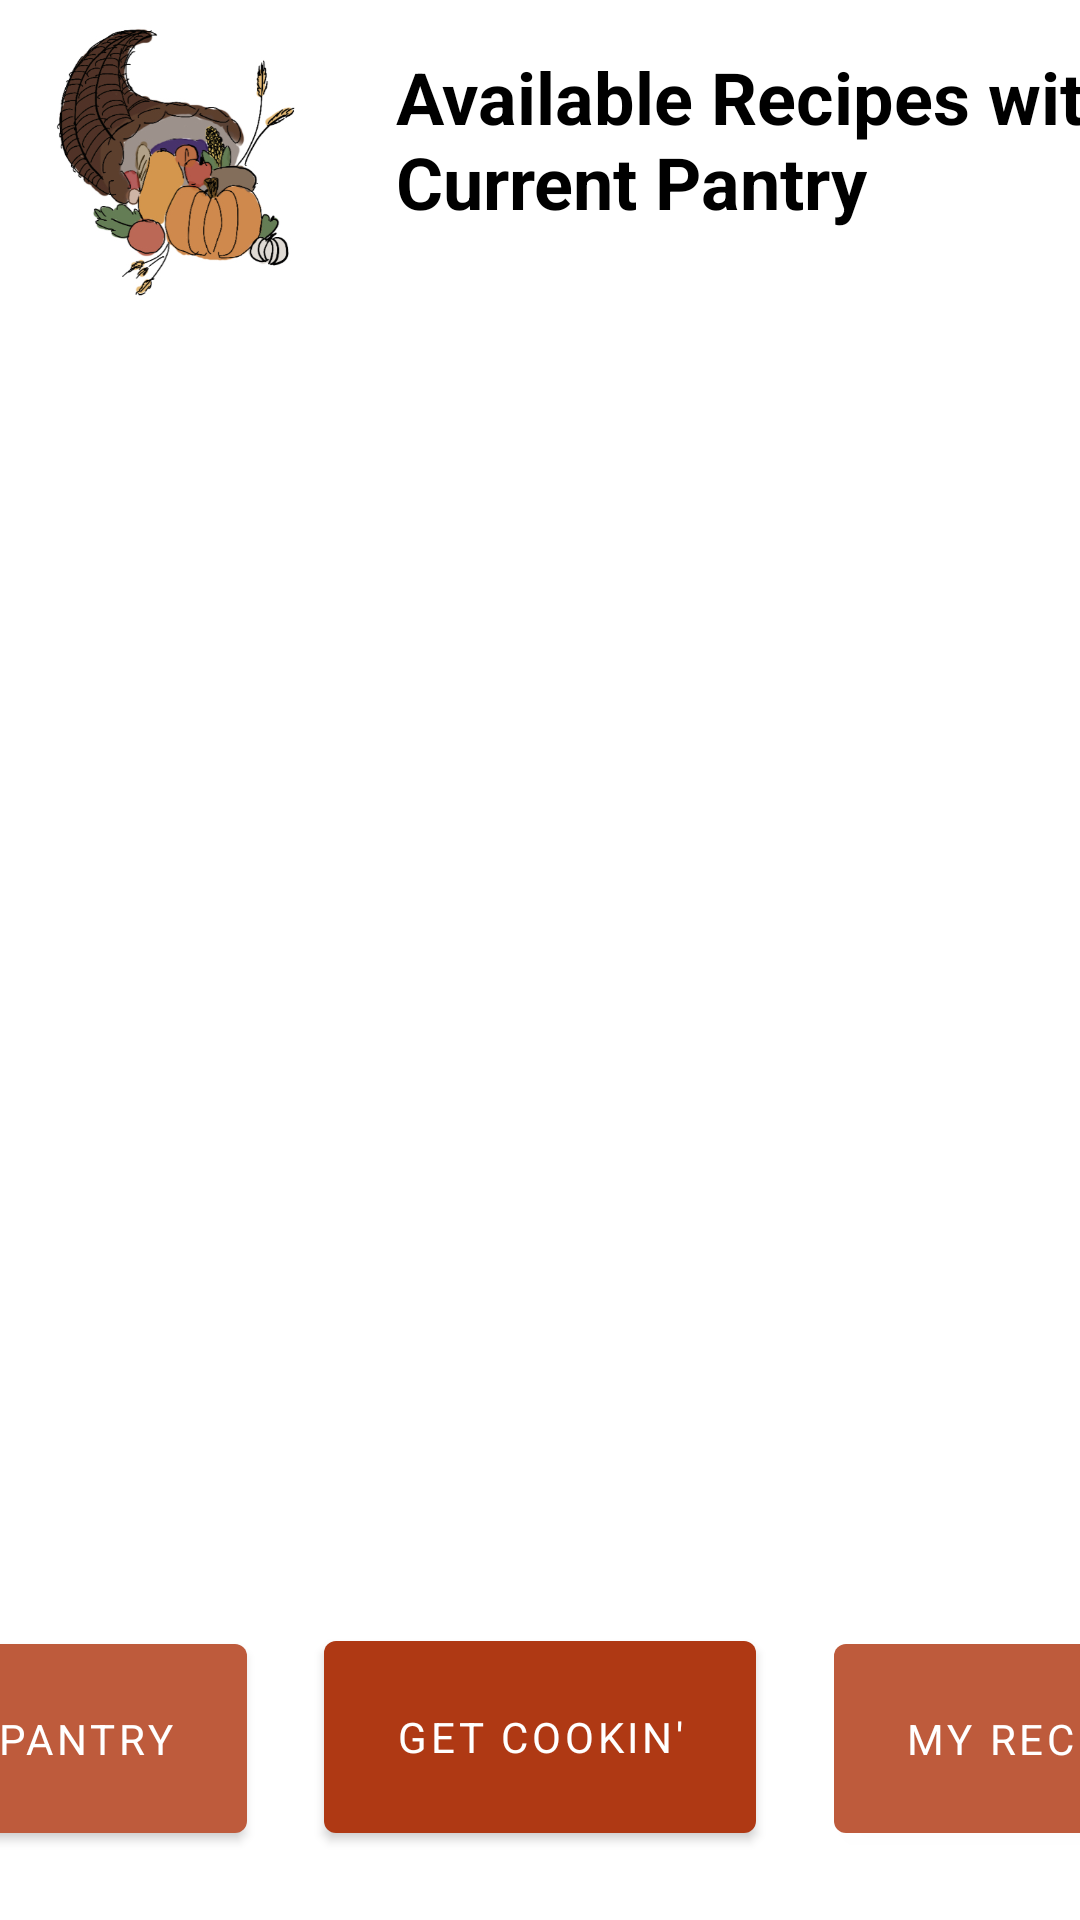

Icons on this 1080 x 1920 Android screen, each with the point to tap as (x,y):
cornucopia: (176,162)
